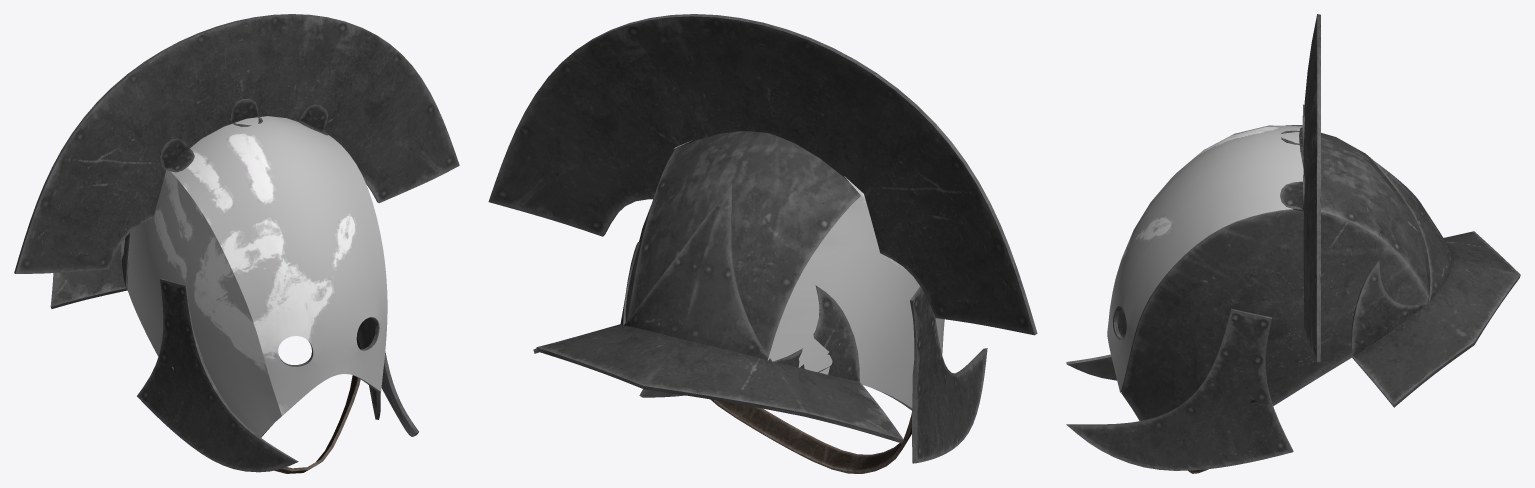
File: sk_uruk_hai_helmet_captain_a2.fbx
The picture shows the model from 3 angles, left to right: view 1: azimuth 30°, elevation 25°; view 2: azimuth 150°, elevation 25°; view 3: azimuth 270°, elevation 25°; orthographic projection. The views are drawn at different scales.
Parts seen in each view (by area): view 1: sk_uruk_hai_helmet_captain_a2.0, sk_uruk_hai_helmet_captain_a2.1, sk_uruk_hai_helmet_captain_a2.2; view 2: sk_uruk_hai_helmet_captain_a2.0, sk_uruk_hai_helmet_captain_a2.1, sk_uruk_hai_helmet_captain_a2.2; view 3: sk_uruk_hai_helmet_captain_a2.0, sk_uruk_hai_helmet_captain_a2.1.
Boxes of the visible parts, <box> form: sk_uruk_hai_helmet_captain_a2.0: <box>14,14,459,472</box>; sk_uruk_hai_helmet_captain_a2.1: <box>121,116,387,437</box>; sk_uruk_hai_helmet_captain_a2.2: <box>170,335,360,473</box>; sk_uruk_hai_helmet_captain_a2.0: <box>488,14,1037,463</box>; sk_uruk_hai_helmet_captain_a2.1: <box>673,140,944,407</box>; sk_uruk_hai_helmet_captain_a2.2: <box>710,388,926,473</box>; sk_uruk_hai_helmet_captain_a2.0: <box>1066,14,1520,470</box>; sk_uruk_hai_helmet_captain_a2.1: <box>1107,125,1303,392</box>.
Size of the model in its own units: 0.4273 by 0.3626 by 0.375.
3 materials, 3 textured.
